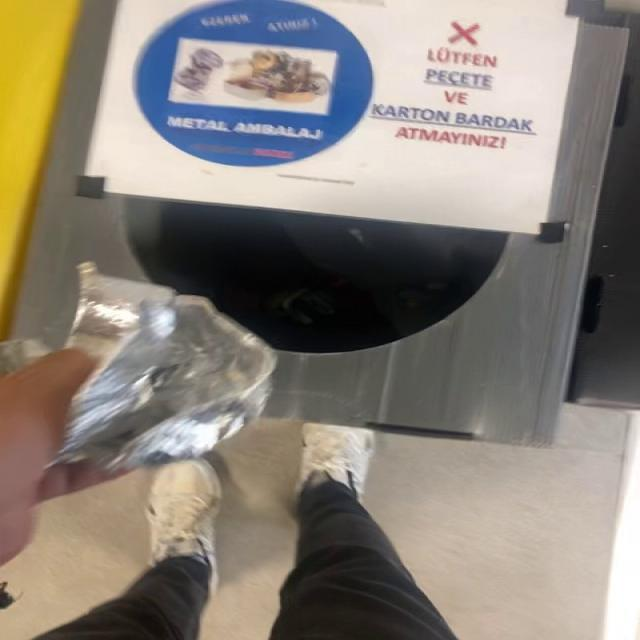Bin: (12, 0, 629, 446)
Metal: (53, 262, 276, 472)
